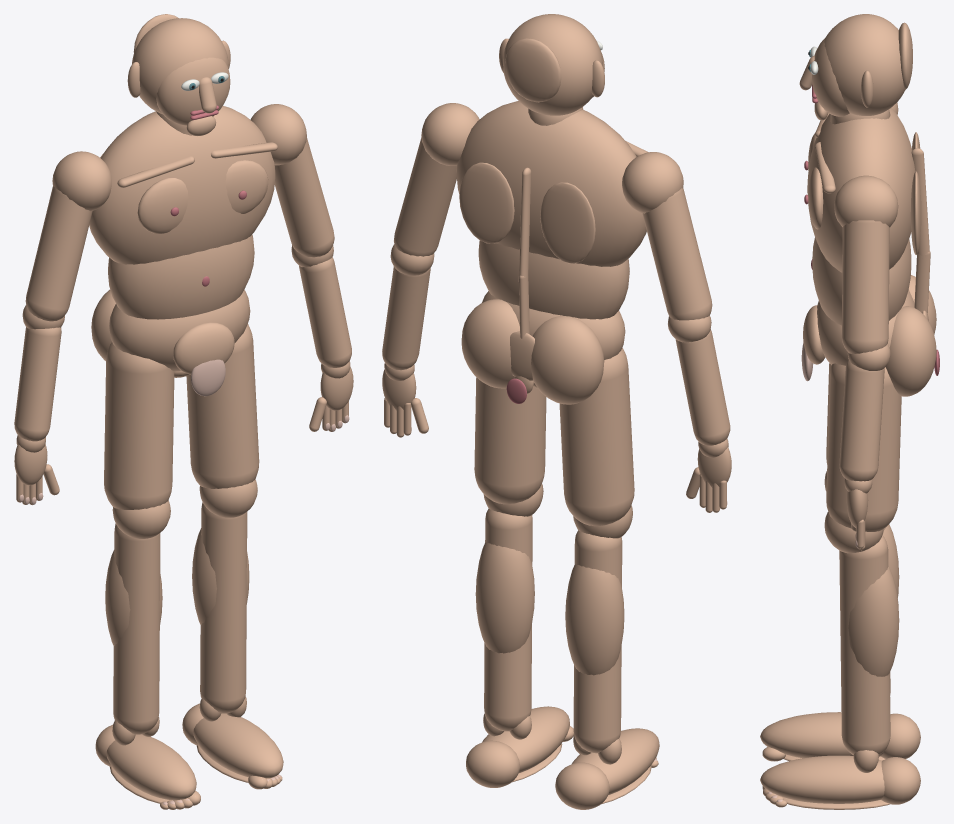
File: body-erwachsener-divers-v2.glb
The picture shows the model from 3 angles, left to right: view 1: azimuth 30°, elevation 25°; view 2: azimuth 150°, elevation 25°; view 3: azimuth 270°, elevation 25°; orthographic projection. The views are drawn at different scales.
Visible parts, largest first — view 1: zone__surface-chest, zone__surface-thigh-left, zone__surface-lower-leg-left, zone__surface-abdomen, zone__surface-lower-leg-right, zone__surface-thigh-right, zone__surface-upper-arm-left, zone__surface-scalp, zone__surface-pelvis, zone__surface-upper-arm-right, zone__surface-forearm-left, zone__surface-foot-right (+18 smaller); view 2: zone__surface-chest, zone__surface-thigh-left, zone__surface-thigh-right, zone__surface-abdomen, zone__surface-upper-arm-left, zone__surface-calf-right, zone__surface-calf-left, zone__surface-lower-leg-left, zone__surface-lower-leg-right, zone__surface-buttock-left, zone__surface-scalp, zone__surface-upper-arm-right (+21 smaller); view 3: zone__surface-chest, zone__surface-lower-leg-right, zone__surface-upper-arm-right, zone__surface-thigh-right, zone__surface-scalp, zone__surface-foot-right, zone__surface-forearm-right, zone__surface-calf-right, zone__surface-buttock-right, zone__surface-foot-left, zone__surface-abdomen, zone__surface-shoulder-right (+20 smaller).
Part boxes in pixels (box(x1,y1,x2,y2)): zone__surface-chest: box(89, 106, 275, 264); zone__surface-thigh-left: box(104, 342, 174, 509); zone__surface-lower-leg-left: box(113, 523, 160, 734); zone__surface-abdomen: box(108, 234, 254, 319); zone__surface-lower-leg-right: box(200, 502, 247, 713); zone__surface-thigh-right: box(186, 323, 259, 488); zone__surface-upper-arm-left: box(25, 186, 92, 321); zone__surface-scalp: box(132, 18, 228, 114); zone__surface-pelvis: box(109, 290, 250, 371); zone__surface-upper-arm-right: box(274, 137, 334, 257); zone__surface-forearm-left: box(14, 327, 61, 441); zone__surface-foot-right: box(193, 713, 283, 778); zone__surface-chest: box(456, 101, 646, 266); zone__surface-thigh-left: box(559, 348, 634, 526); zone__surface-thigh-right: box(474, 377, 546, 504); zone__surface-abdomen: box(478, 240, 629, 319); zone__surface-upper-arm-left: box(642, 188, 712, 320); zone__surface-calf-right: box(475, 542, 534, 653); zone__surface-calf-left: box(565, 564, 624, 675); zone__surface-lower-leg-left: box(573, 530, 622, 753); zone__surface-lower-leg-right: box(484, 508, 532, 731); zone__surface-buttock-left: box(531, 316, 604, 404); zone__surface-scalp: box(503, 14, 602, 115); zone__surface-upper-arm-right: box(394, 137, 456, 256); zone__surface-chest: box(807, 107, 915, 272); zone__surface-lower-leg-right: box(839, 535, 890, 754); zone__surface-upper-arm-right: box(841, 220, 889, 353); zone__surface-thigh-right: box(826, 363, 901, 531); zone__surface-scalp: box(824, 14, 905, 115); zone__surface-foot-right: box(760, 755, 884, 803); zone__surface-forearm-right: box(839, 359, 884, 481); zone__surface-calf-right: box(848, 566, 899, 676); zone__surface-buttock-right: box(885, 306, 936, 396); zone__surface-foot-left: box(760, 712, 883, 758); zone__surface-abdomen: box(812, 237, 911, 325); zone__surface-shoulder-right: box(834, 175, 898, 227).
Bounding box in the file's own units: 0.816 × 1.72 × 0.3683.
